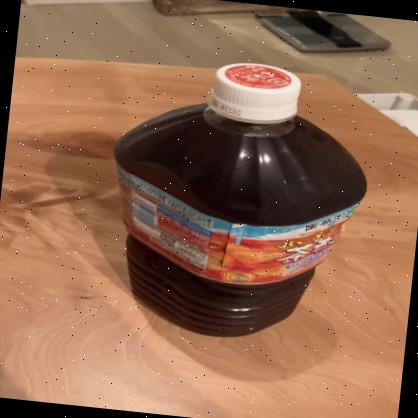bottle: (93, 48, 381, 353)
cap: (202, 56, 306, 126)
label: (103, 178, 370, 292)
